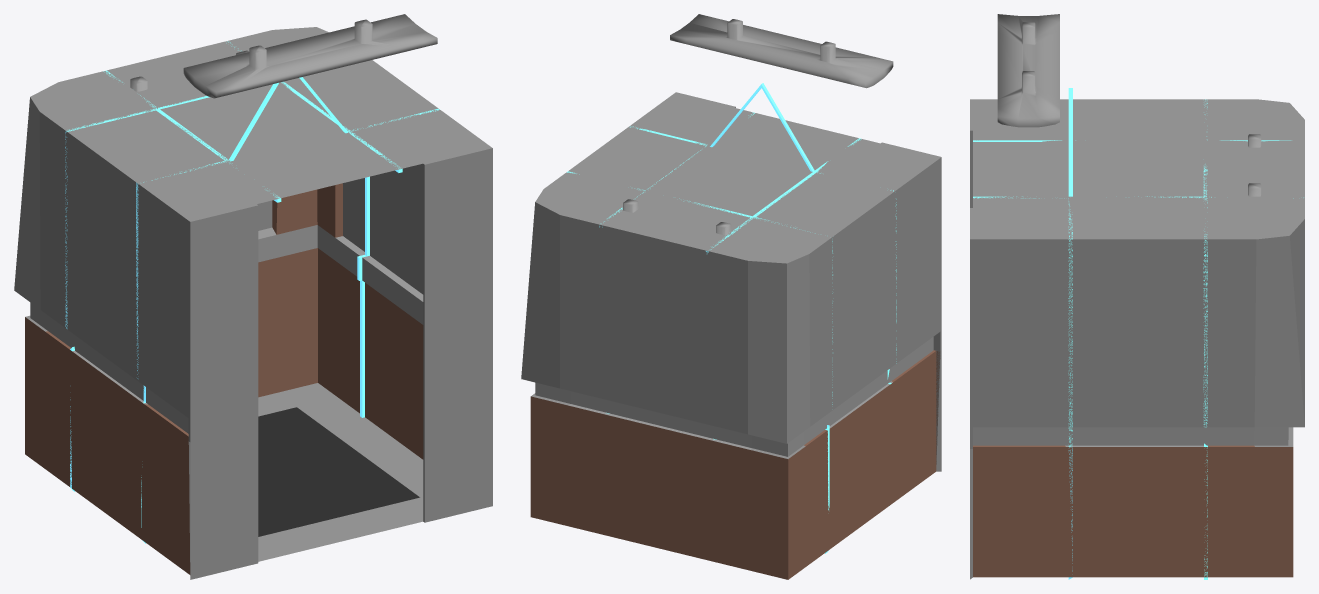
Rendered from Light.fbx.
3 views of the same model, side by side, from view 1: azimuth 30°, elevation 25°; view 2: azimuth 150°, elevation 25°; view 3: azimuth 270°, elevation 25° (orthographic). The views are drawn at different scales.
Parts seen in each view (by area): view 1: Elevator, Lights; view 2: Elevator, Lights; view 3: Elevator, Lights.
Boxes of the visible parts, x1=… form: Elevator: x1=14, y1=14, x2=492, y2=579; Lights: x1=65, y1=41, x2=439, y2=543; Elevator: x1=521, y1=14, x2=941, y2=579; Lights: x1=566, y1=83, x2=896, y2=553; Elevator: x1=970, y1=14, x2=1304, y2=579; Lights: x1=973, y1=88, x2=1303, y2=579.
Bounding box in the file's own units: 200 × 309 × 202.
